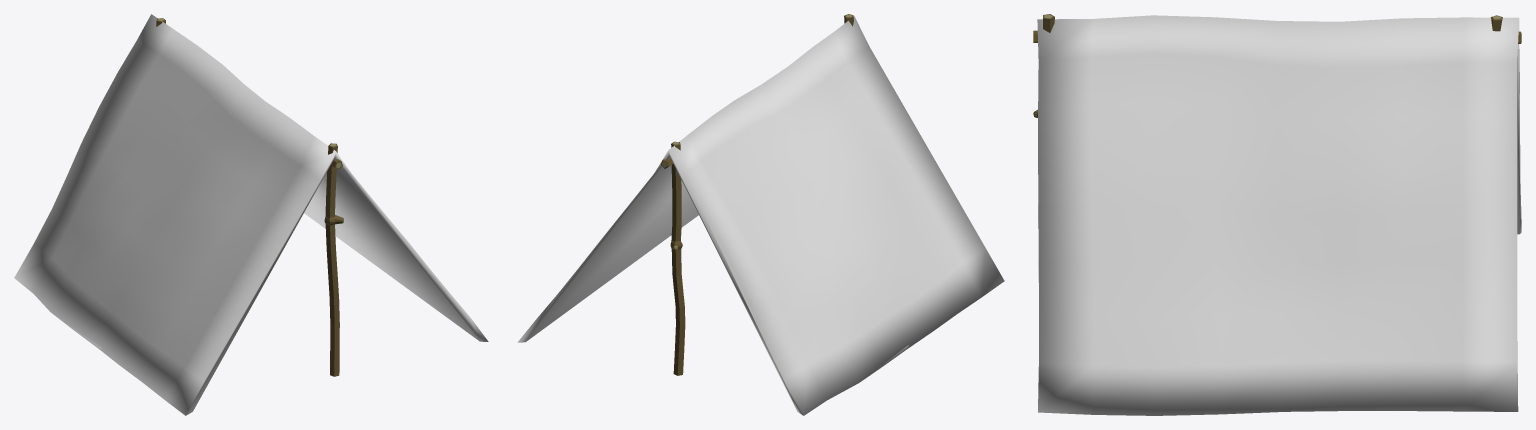
File: tent_02.fbx
3 views of the same model, side by side, from view 1: azimuth 30°, elevation 25°; view 2: azimuth 150°, elevation 25°; view 3: azimuth 270°, elevation 25° (orthographic). The views are drawn at different scales.
Visible parts, largest first — view 1: Cube; view 2: Cube; view 3: Cube.
Boxes of the visible parts, x1,y1,x2,y2 form: Cube: [14, 14, 488, 415]; Cube: [517, 14, 1004, 415]; Cube: [1033, 14, 1521, 415].
Bounding box in the file's own units: 281 × 203 × 298.
